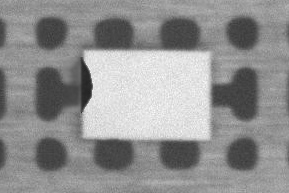DIE_BROKEN: (79, 56, 94, 112)
